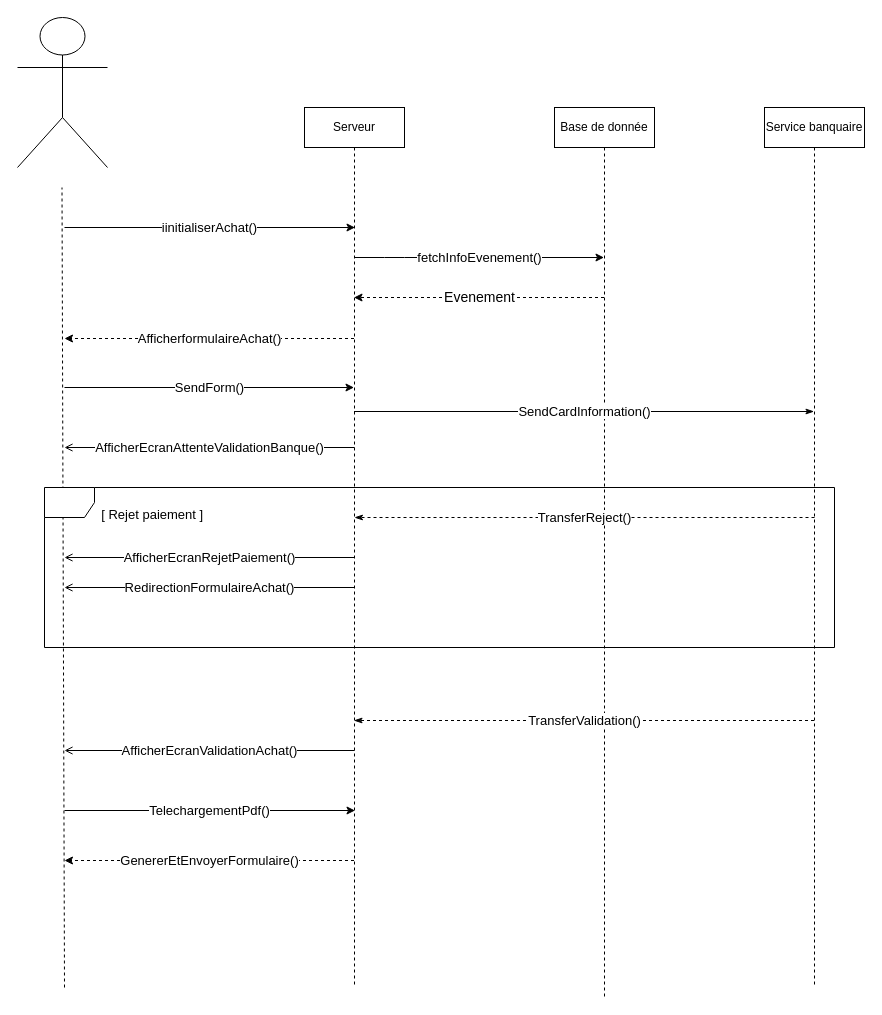
This 882x1015 diagram has some shape labels left out. Each missing label, with the centre of its shape:
alt: point 439,567
Client: point 62,92
